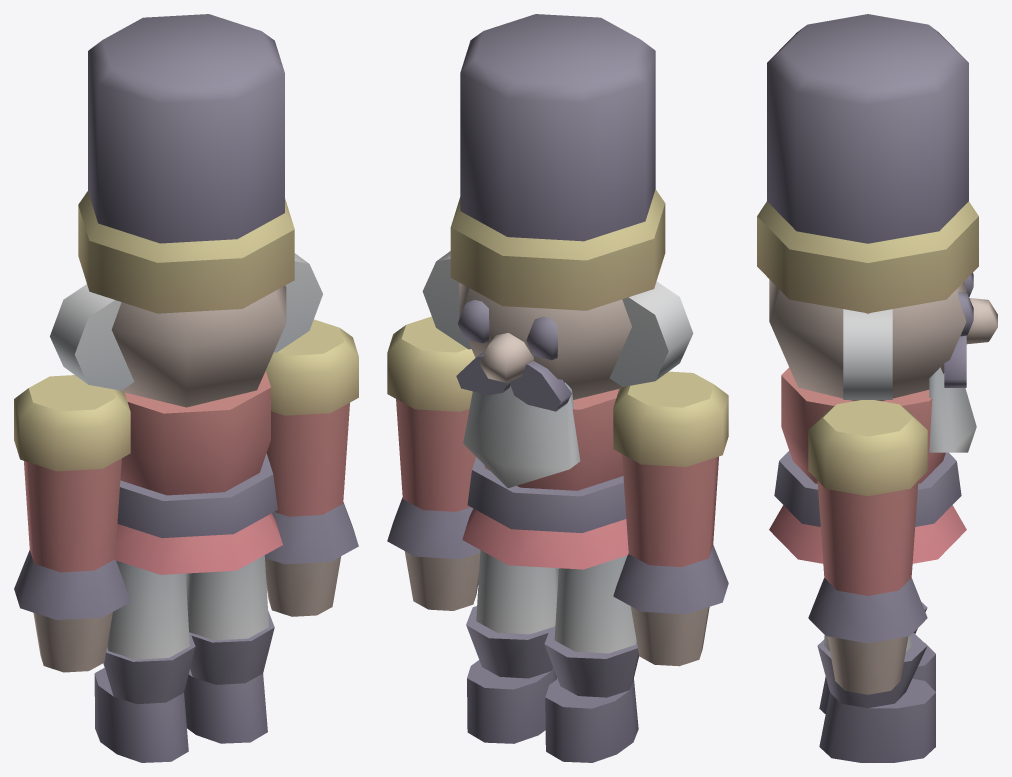
Rendered from nutcracker.glb.
3 views of the same model, side by side, from view 1: azimuth 30°, elevation 25°; view 2: azimuth 150°, elevation 25°; view 3: azimuth 270°, elevation 25° (orthographic).
Visible parts, largest first — view 1: nutcracker; view 2: nutcracker; view 3: nutcracker.
Boxes of the visible parts, x1=… form: nutcracker: x1=14, y1=14, x2=358, y2=762; nutcracker: x1=387, y1=14, x2=728, y2=762; nutcracker: x1=757, y1=14, x2=997, y2=762.
Bounding box in the file's own units: 0.1719 × 0.338 × 0.1089.
